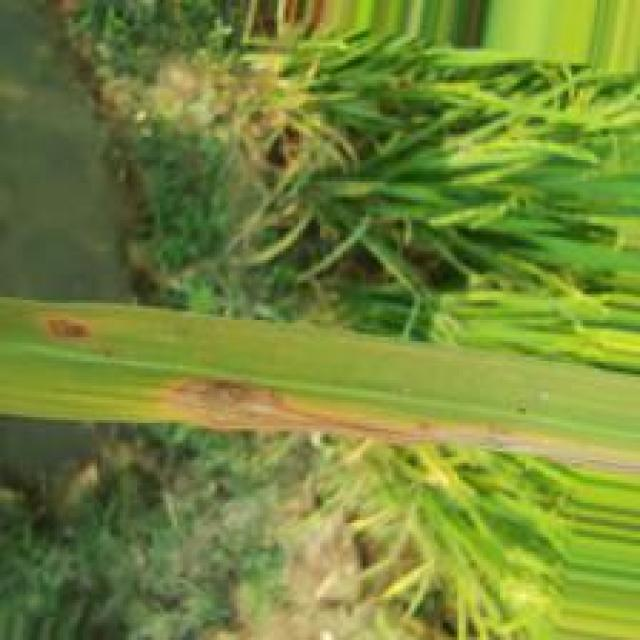Rice Tungro: (134, 373, 575, 457), (39, 311, 96, 342)
